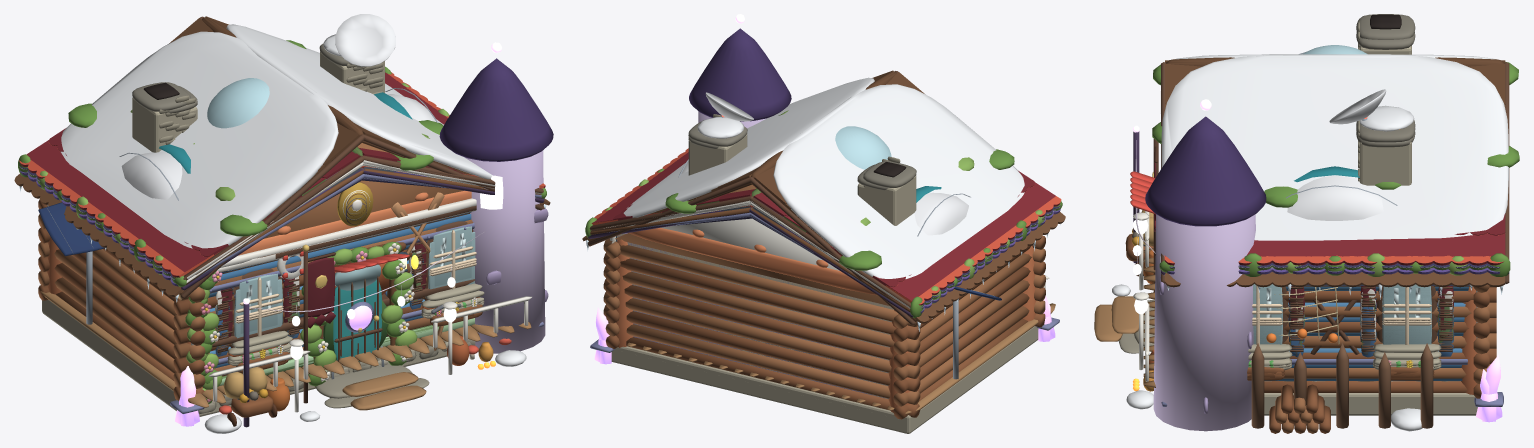
Rendered from granja_astra.glb.
3 renders of one model, left to right at view 1: azimuth 30°, elevation 25°; view 2: azimuth 150°, elevation 25°; view 3: azimuth 270°, elevation 25°, orthographic. The views are drawn at different scales.
Parts seen in each view (by area): view 1: montón nieve 0, frontón atrás.006, frontón atrás.003, techo torre, escalón muelle, leña 00, casco, techo vino tejas -11, aro ojo de buey, hiedra -11, almena -10, rosal dintel 1 (+53 smaller); view 2: montón nieve 0, frontón atrás.003, leña 00, almena -10, techo torre, techo vino tejas -11, ventana -1 alféizar.001, aro ojo de buey, paredes.001, casco, ventana -1 alféizar.004, hiedra -11 (+25 smaller); view 3: montón nieve 0, frontón atrás.006, techo torre, leña 00, techo vino tejas -11, frontón atrás.003, estaca 0, casco, techo cabaña tejas -11, ventana -1 alféizar.004, hiedra -11, escalón muelle (+44 smaller).
Part boxes in pixels (x1,y1,x2,y2): montón nieve 0: [61, 24, 526, 433]; frontón atrás.006: [464, 150, 545, 353]; frontón atrás.003: [38, 143, 473, 388]; techo torre: [439, 58, 553, 161]; escalón muelle: [40, 291, 531, 410]; leña 00: [38, 199, 470, 400]; casco: [121, 14, 435, 199]; techo vino tejas -11: [20, 72, 545, 277]; aro ojo de buey: [191, 191, 531, 401]; hiedra -11: [18, 40, 546, 383]; almena -10: [47, 190, 471, 388]; rosal dintel 1: [186, 246, 417, 389]; montón nieve 0: [623, 77, 1024, 278]; frontón atrás.003: [603, 184, 1045, 406]; leña 00: [603, 236, 1045, 419]; almena -10: [616, 227, 1036, 412]; techo torre: [689, 28, 791, 121]; techo vino tejas -11: [592, 152, 1060, 305]; ventana -1 alféizar.001: [611, 328, 1038, 433]; aro ojo de buey: [610, 218, 1049, 288]; paredes.001: [616, 233, 893, 398]; casco: [679, 92, 968, 235]; ventana -1 alféizar.004: [612, 346, 911, 433]; hiedra -11: [585, 149, 1062, 317]; montón nieve 0: [1112, 54, 1508, 431]; frontón atrás.006: [1153, 214, 1255, 431]; techo torre: [1145, 116, 1266, 226]; leña 00: [1264, 287, 1496, 433]; techo vino tejas -11: [1165, 233, 1505, 265]; frontón atrás.003: [1275, 284, 1496, 433]; estaca 0: [1251, 343, 1433, 428]; casco: [1287, 89, 1386, 220]; techo cabaña tejas -11: [1165, 104, 1505, 287]; ventana -1 alféizar.004: [1248, 343, 1477, 414]; hiedra -11: [1152, 62, 1519, 276]; escalón muelle: [1094, 245, 1155, 387].
Size of the model in its own units: 10.27 by 7.02 by 8.56.
